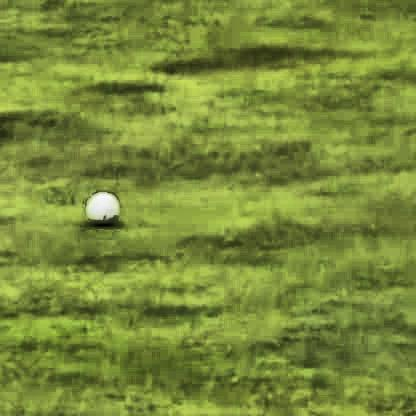golfball: (84, 187, 114, 220)
